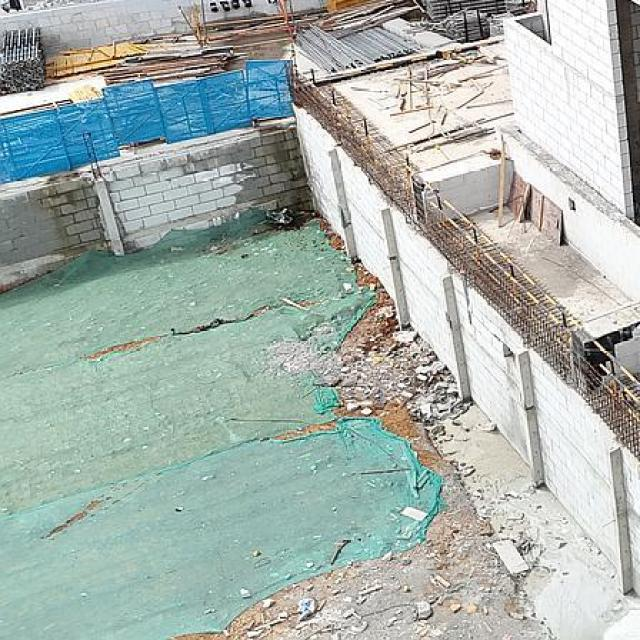edge_guardrail: (430, 193, 640, 404), (296, 72, 413, 191)
